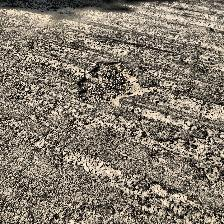pothole: (76, 59, 150, 107)
